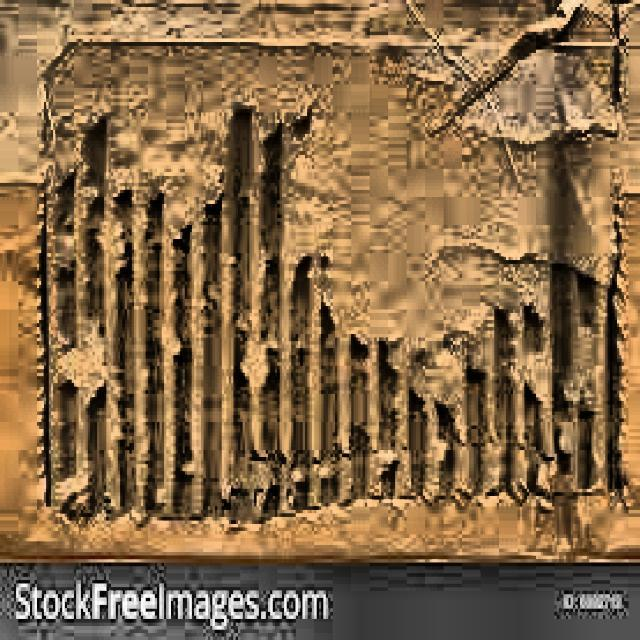cardboard: (0, 0, 638, 563)
